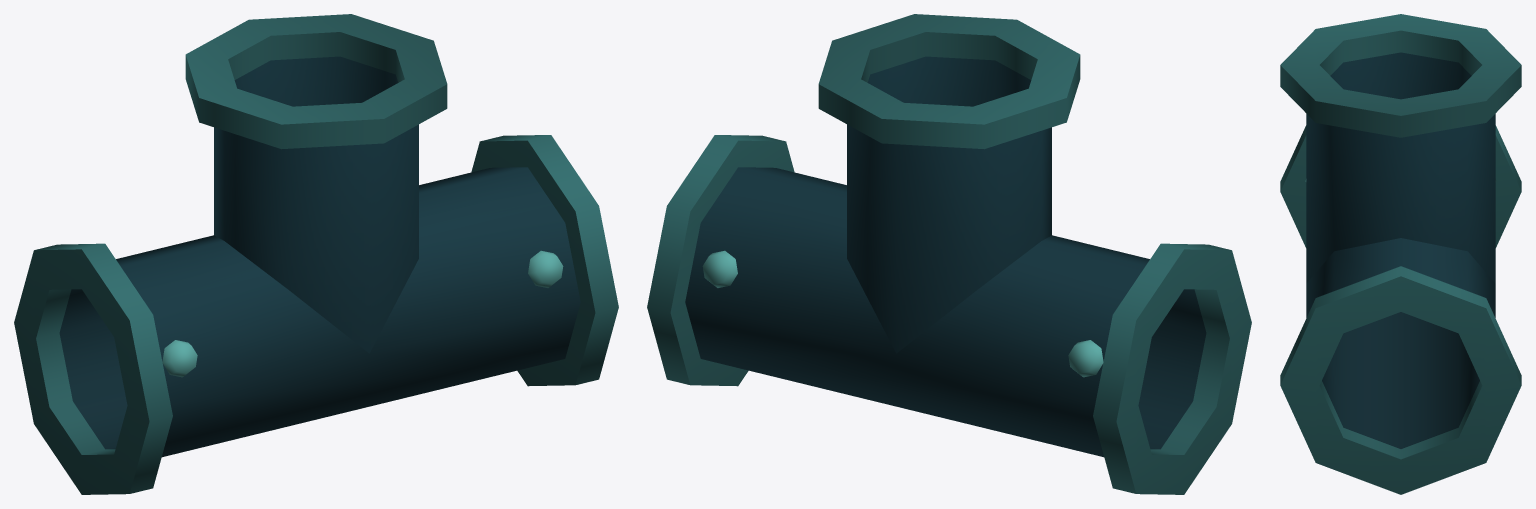
File: pipe-large-side.obj
3 renders of one model, left to right at view 1: azimuth 30°, elevation 25°; view 2: azimuth 150°, elevation 25°; view 3: azimuth 270°, elevation 25°, orthographic. The views are drawn at different scales.
Parts seen in each view (by area): view 1: pipe-large-side; view 2: pipe-large-side; view 3: pipe-large-side.
Boxes of the visible parts, box(x1,y1,x2,y2) form: pipe-large-side: box(14, 14, 618, 494); pipe-large-side: box(647, 14, 1251, 494); pipe-large-side: box(1280, 14, 1521, 494).
Bounding box in the file's own units: 2 × 1.5 × 1.
